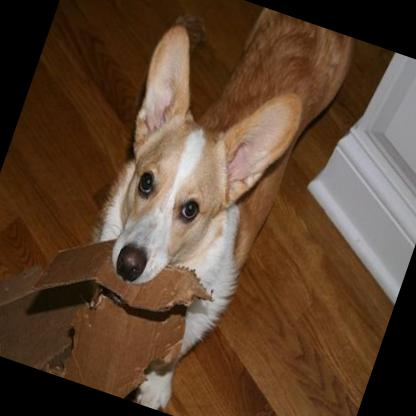Cardigan: (30, 0, 353, 416)
